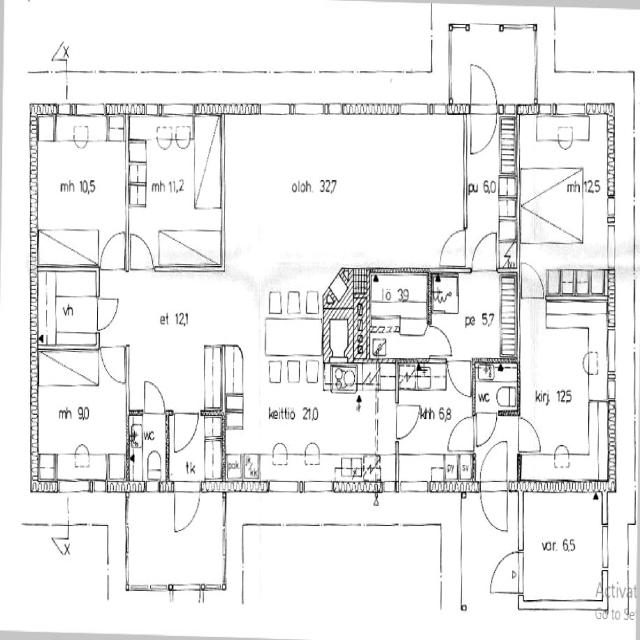door: (479, 438, 511, 536), (467, 58, 499, 154), (487, 546, 525, 597), (171, 478, 202, 537), (437, 222, 469, 272), (469, 227, 500, 275), (171, 407, 201, 454), (98, 227, 127, 274), (99, 342, 129, 387), (446, 411, 476, 455), (392, 399, 423, 441), (127, 228, 155, 274), (446, 355, 474, 399), (94, 293, 122, 333), (140, 376, 168, 416), (516, 413, 542, 456), (472, 408, 499, 448), (427, 322, 453, 361), (520, 261, 544, 299)
window: (604, 320, 617, 385), (598, 519, 612, 573), (396, 98, 433, 118), (70, 99, 108, 118), (291, 99, 326, 118), (267, 478, 304, 495), (554, 99, 588, 117), (257, 100, 291, 117), (302, 479, 334, 496), (605, 194, 617, 225), (148, 581, 170, 594)
zone: (225, 110, 467, 271), (225, 272, 397, 484), (522, 268, 610, 486), (126, 110, 222, 272), (518, 109, 613, 269), (31, 117, 128, 269), (127, 268, 224, 415), (32, 350, 129, 487), (519, 490, 605, 606), (397, 363, 471, 490), (426, 269, 521, 362), (465, 105, 516, 269), (36, 266, 99, 351), (371, 271, 429, 357), (129, 410, 168, 488), (424, 405, 474, 461), (472, 360, 520, 413), (430, 273, 459, 315), (458, 452, 474, 481)
